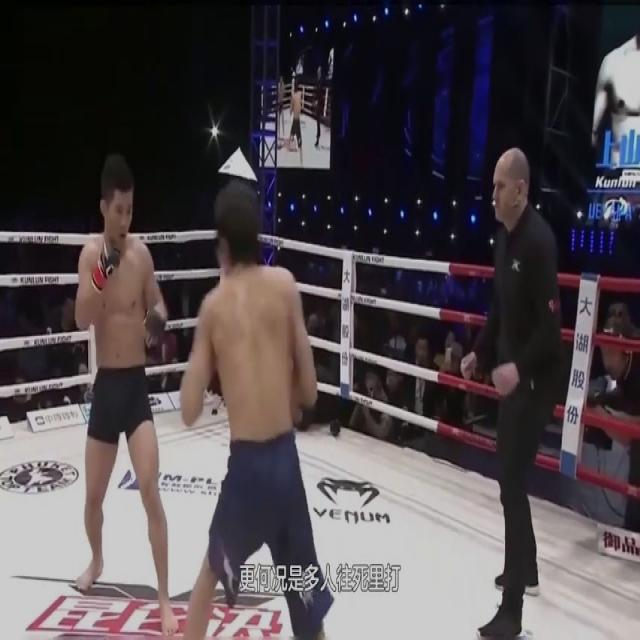fight: (57, 141, 352, 639)
non-fight: (456, 134, 578, 638)
